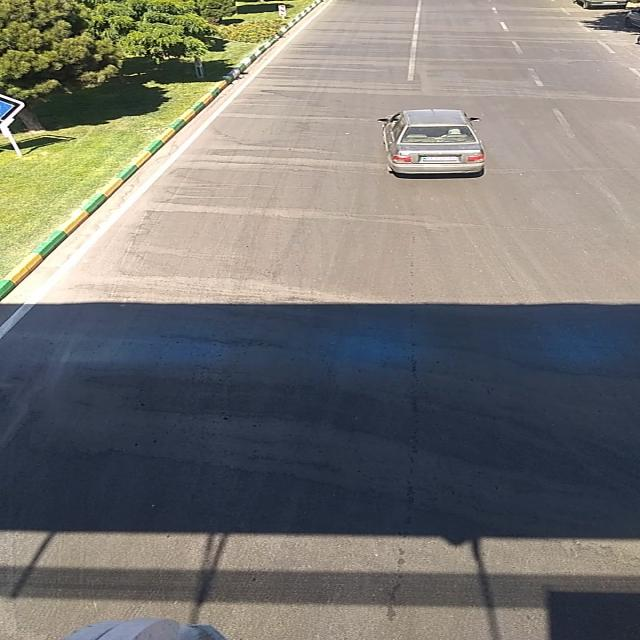car: (374, 110, 489, 178)
